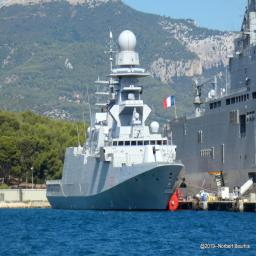Fragata: (47, 25, 189, 212)
